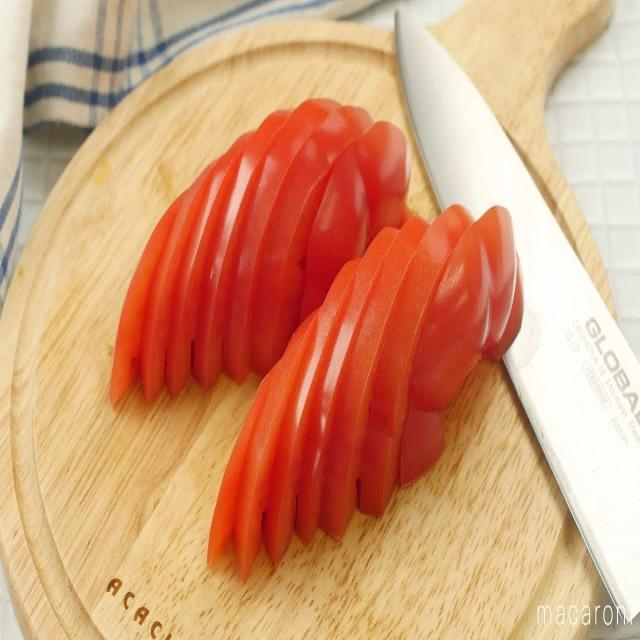Tomato: (358, 202, 494, 526), (317, 214, 434, 548), (398, 202, 526, 498), (295, 223, 401, 551), (250, 103, 375, 376), (223, 97, 343, 380), (264, 252, 360, 571), (195, 102, 301, 388), (231, 304, 323, 586), (166, 127, 259, 401), (302, 118, 413, 312), (137, 146, 216, 412), (107, 184, 189, 412), (204, 358, 284, 572)
